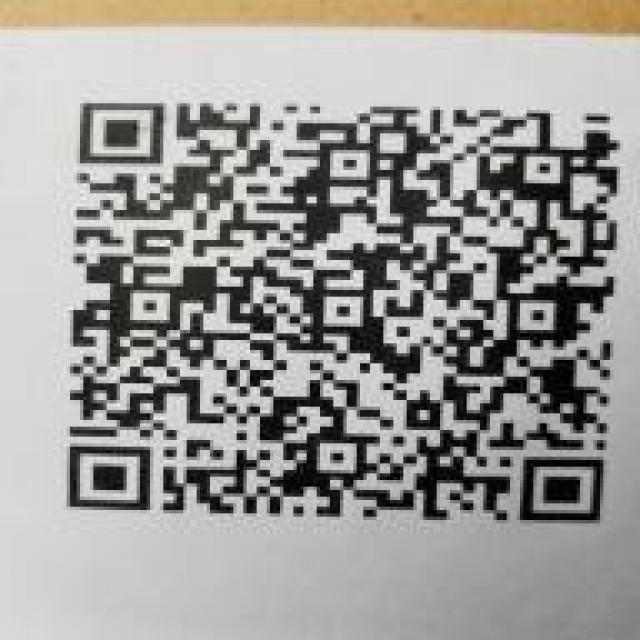QR_CODE: (35, 80, 630, 545)
